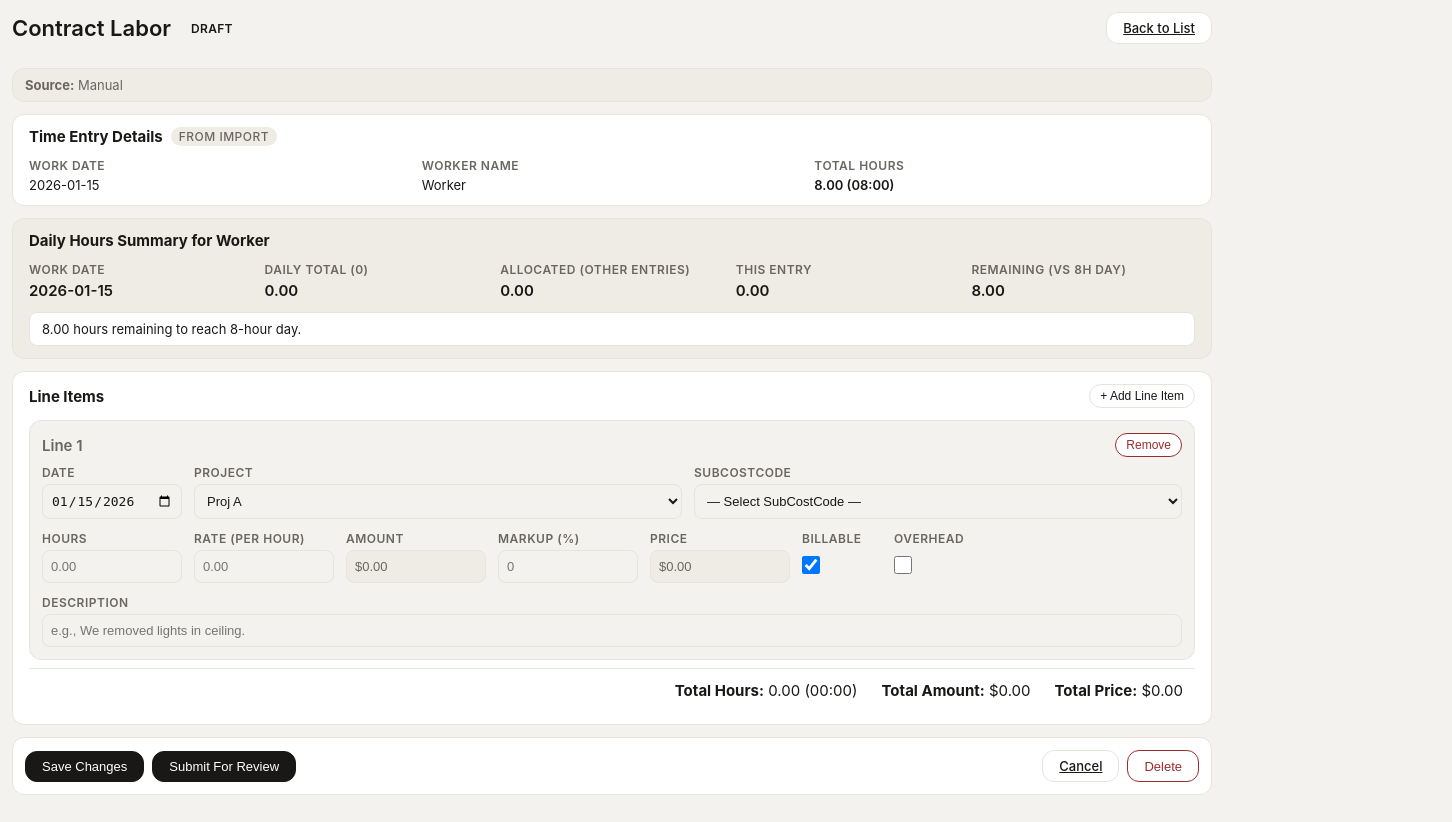
it: ContractLaborEdit markup display (U-195) › fills Markup (%) from effective-rate when Project is selected (fractionToPercent ~312)
The width and height of the screenshot is (1452, 822).
Expected: the element with class "cl-line-item-card" is shown, x1=29 y1=420 x2=1195 y2=660
Select "Proj A" in the dropdown below "Project" at (438,502), box x1=194 y1=484 x2=682 y2=519
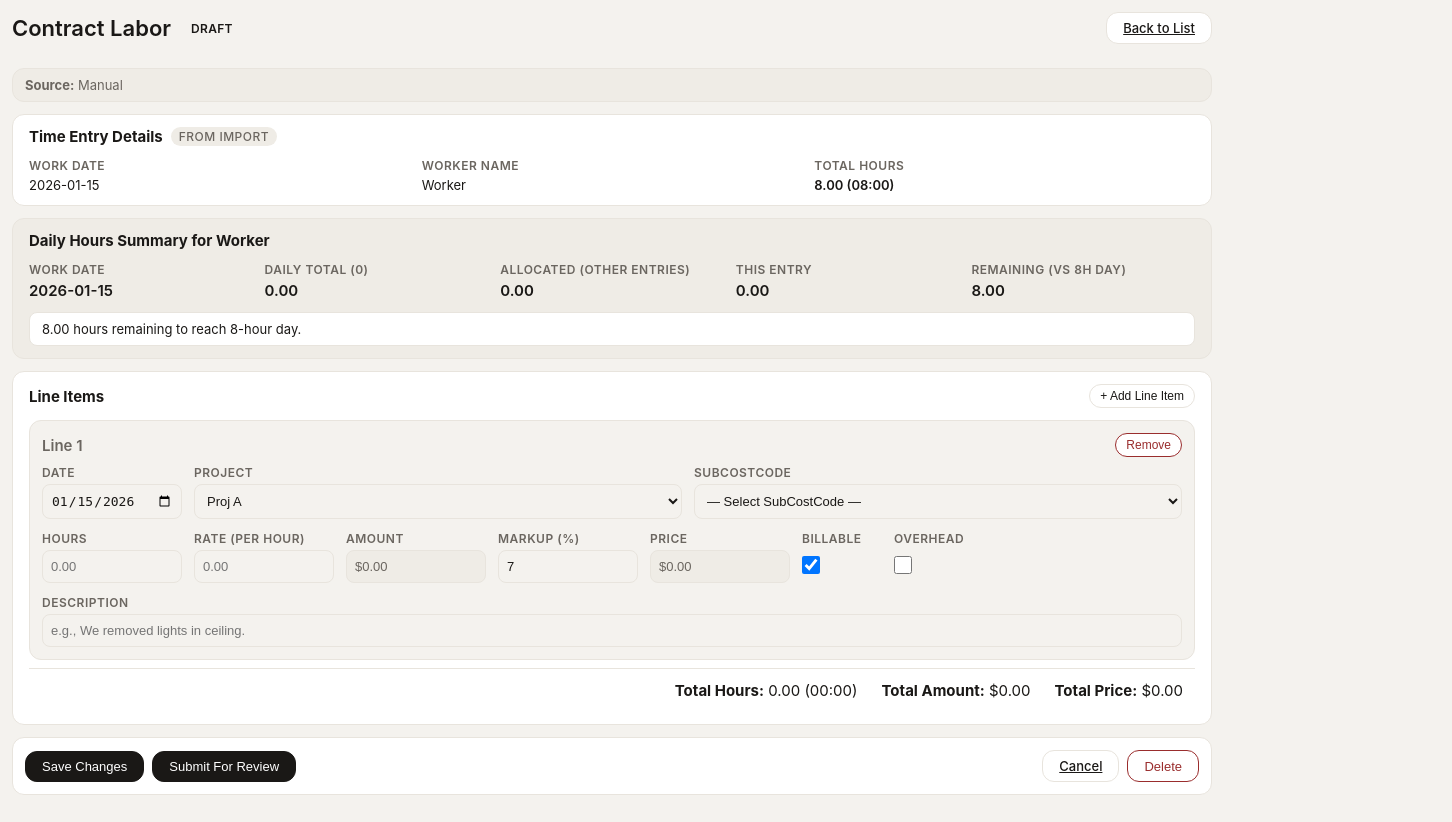
Expected: the 3rd number field holds "7", x1=498 y1=550 x2=638 y2=583
